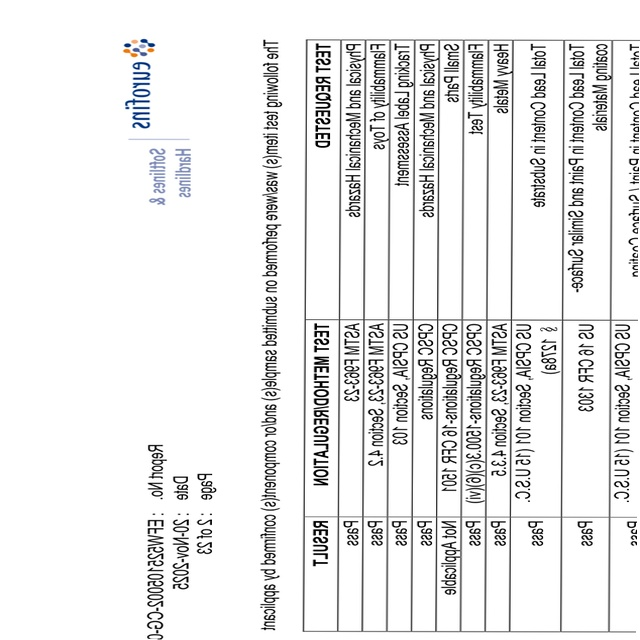eurofins: (118, 33, 158, 133)
